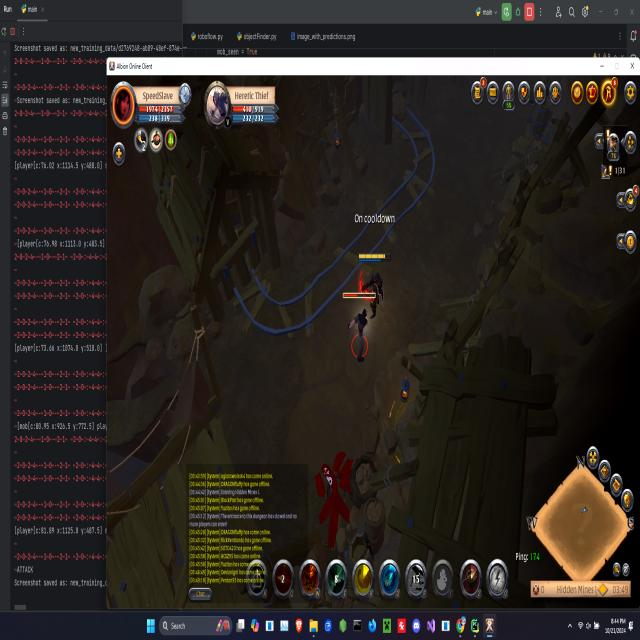ore: (343, 285, 378, 363)
red: (358, 248, 393, 314)
